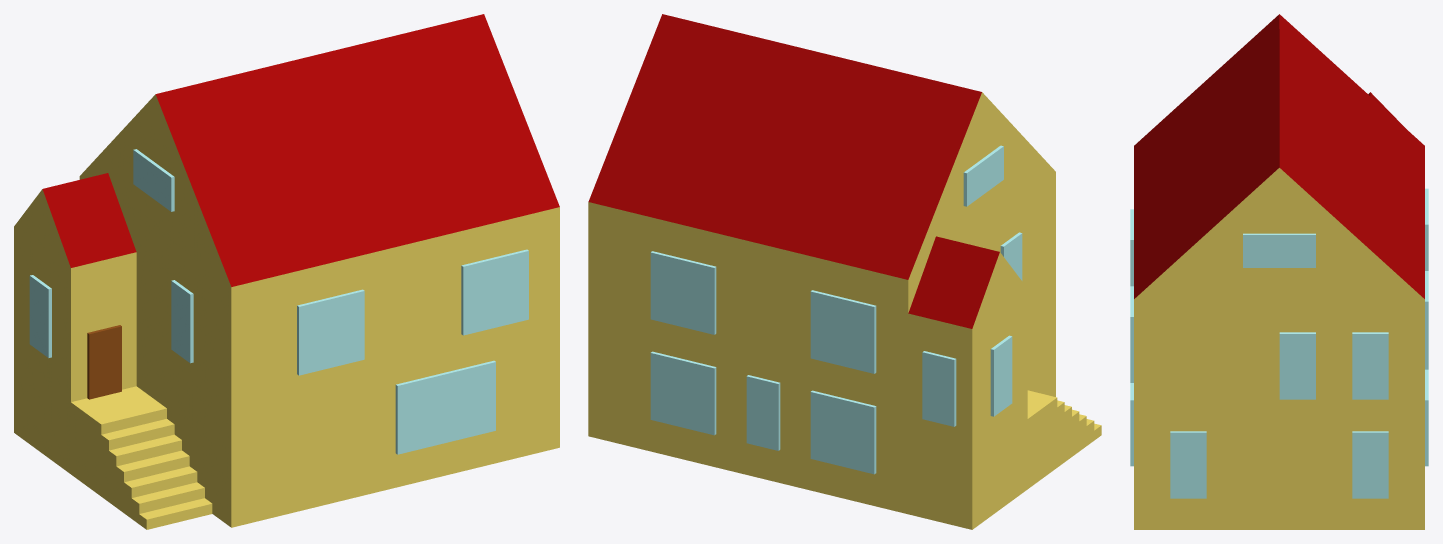
File: house4.fbx
The picture shows the model from 3 angles, left to right: view 1: azimuth 30°, elevation 25°; view 2: azimuth 150°, elevation 25°; view 3: azimuth 270°, elevation 25°; orthographic projection. The views are drawn at different scales.
Parts seen in each view (by area): view 1: House4; view 2: House4; view 3: House4.
Part boxes in pixels (x1,y1,x2,y2): House4: [14, 14, 559, 529]; House4: [588, 14, 1101, 529]; House4: [1130, 14, 1428, 529].
Bounding box in the file's own units: 1830 × 1650 × 1230.
